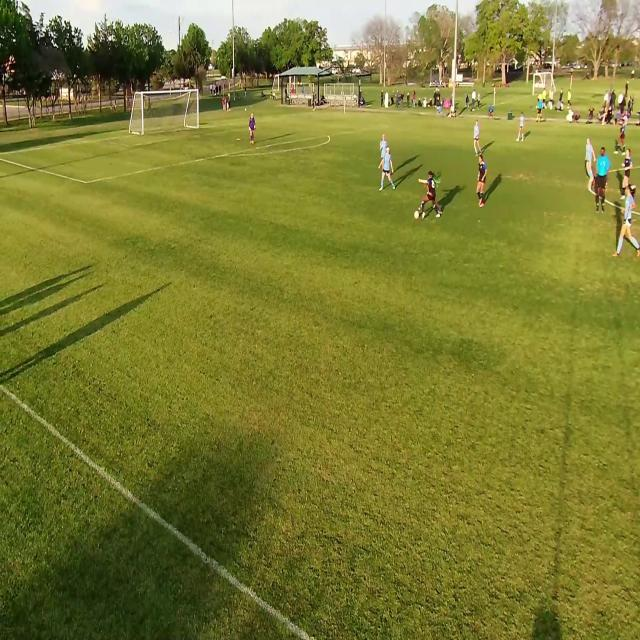ball: (414, 213, 420, 221)
team1: (417, 170, 445, 220), (476, 149, 490, 206), (622, 144, 634, 198), (615, 114, 627, 156)
team2: (621, 188, 638, 258), (586, 136, 598, 190), (383, 148, 396, 192), (474, 120, 482, 156), (518, 112, 526, 145), (378, 134, 386, 159)
